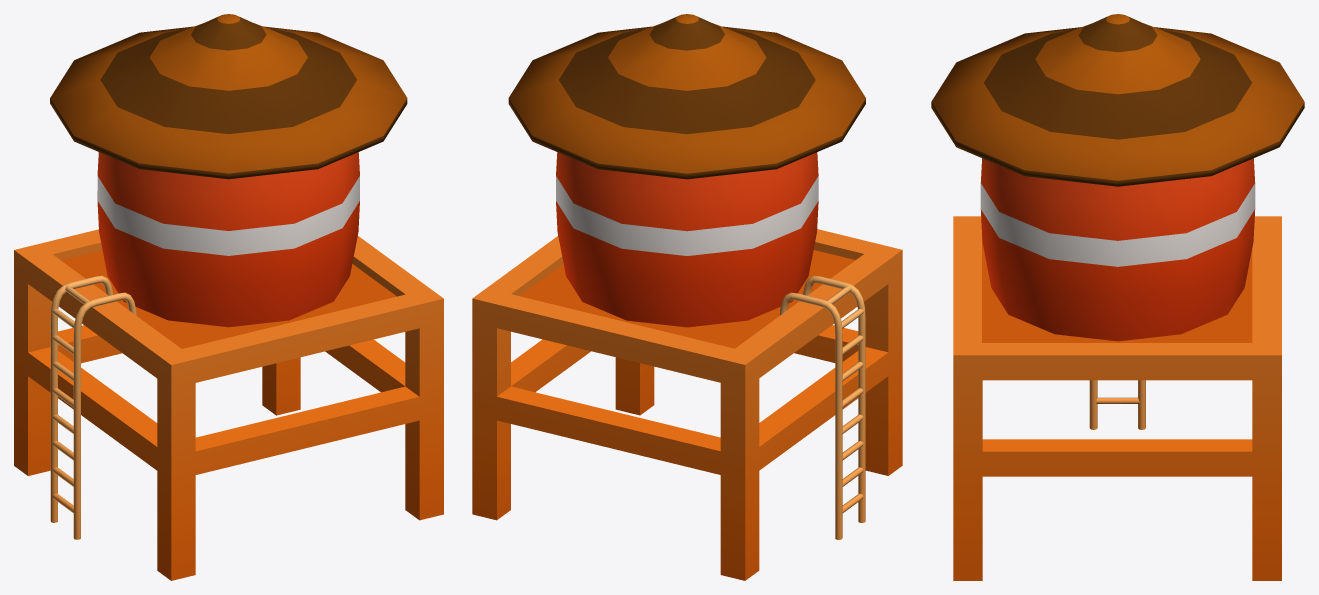
The model's file is Prop_Water_Tank_01.fbx.
3 views of the same model, side by side, from view 1: azimuth 30°, elevation 25°; view 2: azimuth 150°, elevation 25°; view 3: azimuth 270°, elevation 25° (orthographic). The views are drawn at different scales.
Visible parts, largest first — view 1: Prop_Water_Tank_01; view 2: Prop_Water_Tank_01; view 3: Prop_Water_Tank_01.
Part boxes in pixels (x1,y1,x2,y2): Prop_Water_Tank_01: [14, 14, 443, 580]; Prop_Water_Tank_01: [472, 14, 902, 580]; Prop_Water_Tank_01: [931, 14, 1304, 580].
Bounding box in the file's own units: 225 × 317 × 217.
